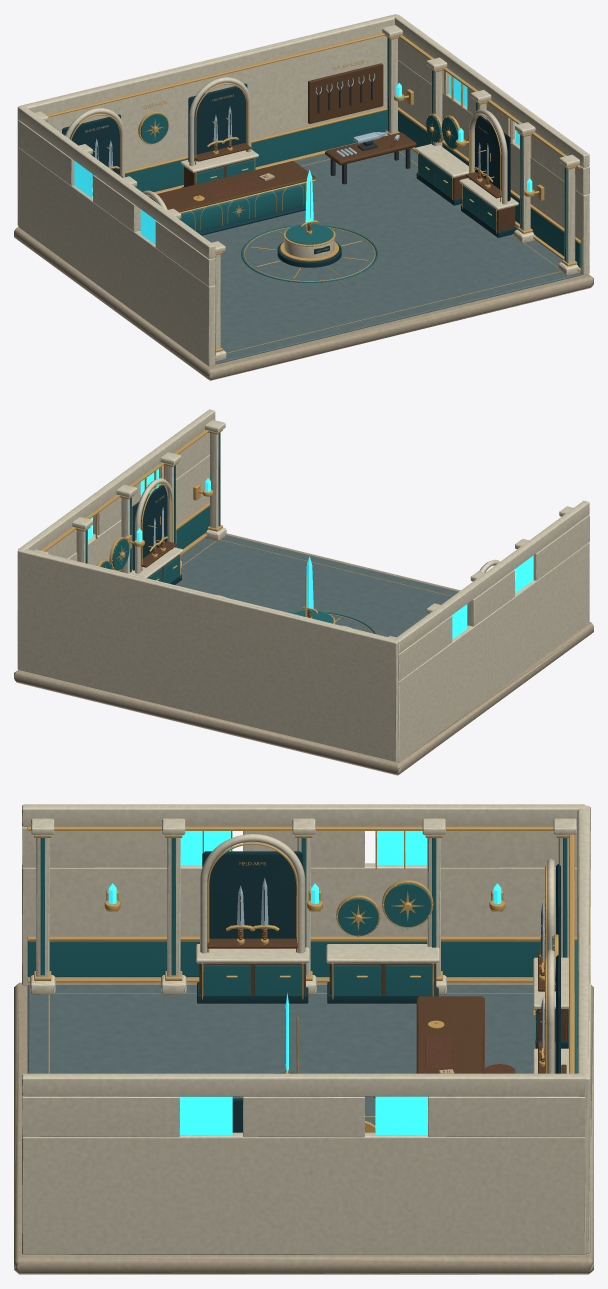
The model's file is Armory-Room.glb.
3 views of the same model, one above another, from view 1: azimuth 30°, elevation 25°; view 2: azimuth 150°, elevation 25°; view 3: azimuth 270°, elevation 25° (orthographic). The views are drawn at different scales.
Parts seen in each view (by area): view 1: Neris armory - Ivory 1, Neris armory - Floor 1, Neris armory - Teal 1, Neris armory - Walnut 1, Neris armory - WarmStone 1, Neris armory - Gold 1, Neris armory - DeepTeal 1, Neris armory - Crystal 1, Neris armory - Steel 1, Neris armory - Gold 2, Neris armory - Iron 1, Neris armory - Leather 1; view 2: Neris armory - Ivory 1, Neris armory - Floor 1, Neris armory - WarmStone 1, Neris armory - Teal 1, Neris armory - Gold 1, Neris armory - Crystal 1, Neris armory - DeepTeal 1, Neris armory - Gold 2; view 3: Neris armory - Ivory 1, Neris armory - Floor 1, Neris armory - Teal 1, Neris armory - WarmStone 1, Neris armory - Gold 1, Neris armory - DeepTeal 1, Neris armory - Crystal 1, Neris armory - Walnut 1, Neris armory - Leather 1, Neris armory - Steel 1, Neris armory - Gold 2.
Boxes of the visible parts, <box> form: Neris armory - Ivory 1: <box>17,14,589,366</box>; Neris armory - Floor 1: <box>202,149,582,364</box>; Neris armory - Teal 1: <box>125,38,581,355</box>; Neris armory - Walnut 1: <box>92,63,515,231</box>; Neris armory - WarmStone 1: <box>14,227,593,380</box>; Neris armory - Gold 1: <box>46,33,581,359</box>; Neris armory - DeepTeal 1: <box>62,83,517,267</box>; Neris armory - Crystal 1: <box>74,70,532,244</box>; Neris armory - Steel 1: <box>95,73,488,175</box>; Neris armory - Gold 2: <box>394,89,544,201</box>; Neris armory - Iron 1: <box>317,79,410,184</box>; Neris armory - Leather 1: <box>111,139,489,231</box>; Neris armory - Ivory 1: <box>17,409,589,762</box>; Neris armory - Floor 1: <box>175,535,458,637</box>; Neris armory - WarmStone 1: <box>14,533,593,775</box>; Neris armory - Teal 1: <box>85,433,375,633</box>; Neris armory - Gold 1: <box>41,429,494,633</box>; Neris armory - Crystal 1: <box>87,465,533,639</box>; Neris armory - DeepTeal 1: <box>132,485,181,584</box>; Neris armory - Gold 2: <box>97,484,213,570</box>; Neris armory - Ivory 1: <box>22,804,590,1255</box>; Neris armory - Floor 1: <box>27,985,568,1125</box>; Neris armory - Teal 1: <box>27,838,577,1098</box>; Neris armory - WarmStone 1: <box>14,982,593,1274</box>; Neris armory - Gold 1: <box>27,826,577,1117</box>; Neris armory - DeepTeal 1: <box>197,851,568,1132</box>; Neris armory - Crystal 1: <box>108,831,501,1134</box>; Neris armory - Walnut 1: <box>199,938,567,1073</box>; Neris armory - Leather 1: <box>238,928,544,1073</box>; Neris armory - Steel 1: <box>237,878,544,1048</box>; Neris armory - Gold 2: <box>104,890,505,1132</box>.
Bounding box in the file's own units: 16.7 × 5.5 × 14.7.
Materials: 12 (5 with a texture image).
